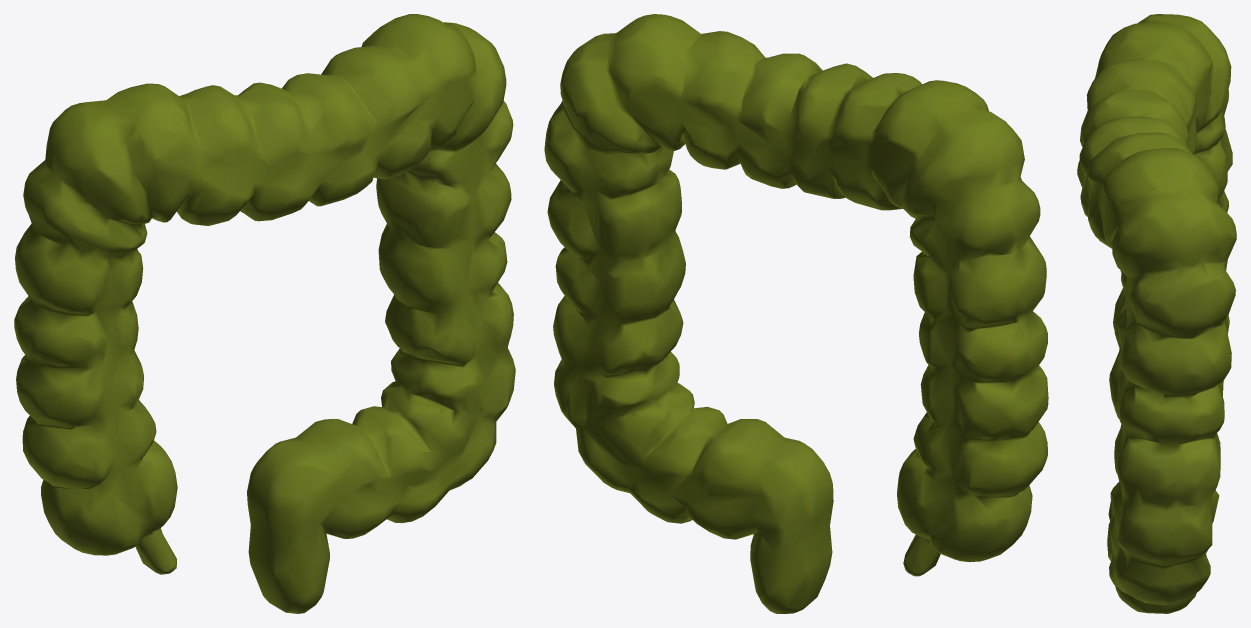
Rendered from grosso.glb.
3 renders of one model, left to right at view 1: azimuth 30°, elevation 25°; view 2: azimuth 150°, elevation 25°; view 3: azimuth 270°, elevation 25°, orthographic. The views are drawn at different scales.
Parts seen in each view (by area): view 1: corpo; view 2: corpo; view 3: corpo.
Boxes of the visible parts, <box> form: corpo: <box>14,14,515,613</box>; corpo: <box>544,14,1048,613</box>; corpo: <box>1077,14,1236,613</box>.
Bounding box in the file's own units: 0.8914 × 0.9796 × 0.2736.
1 material, 1 textured.
